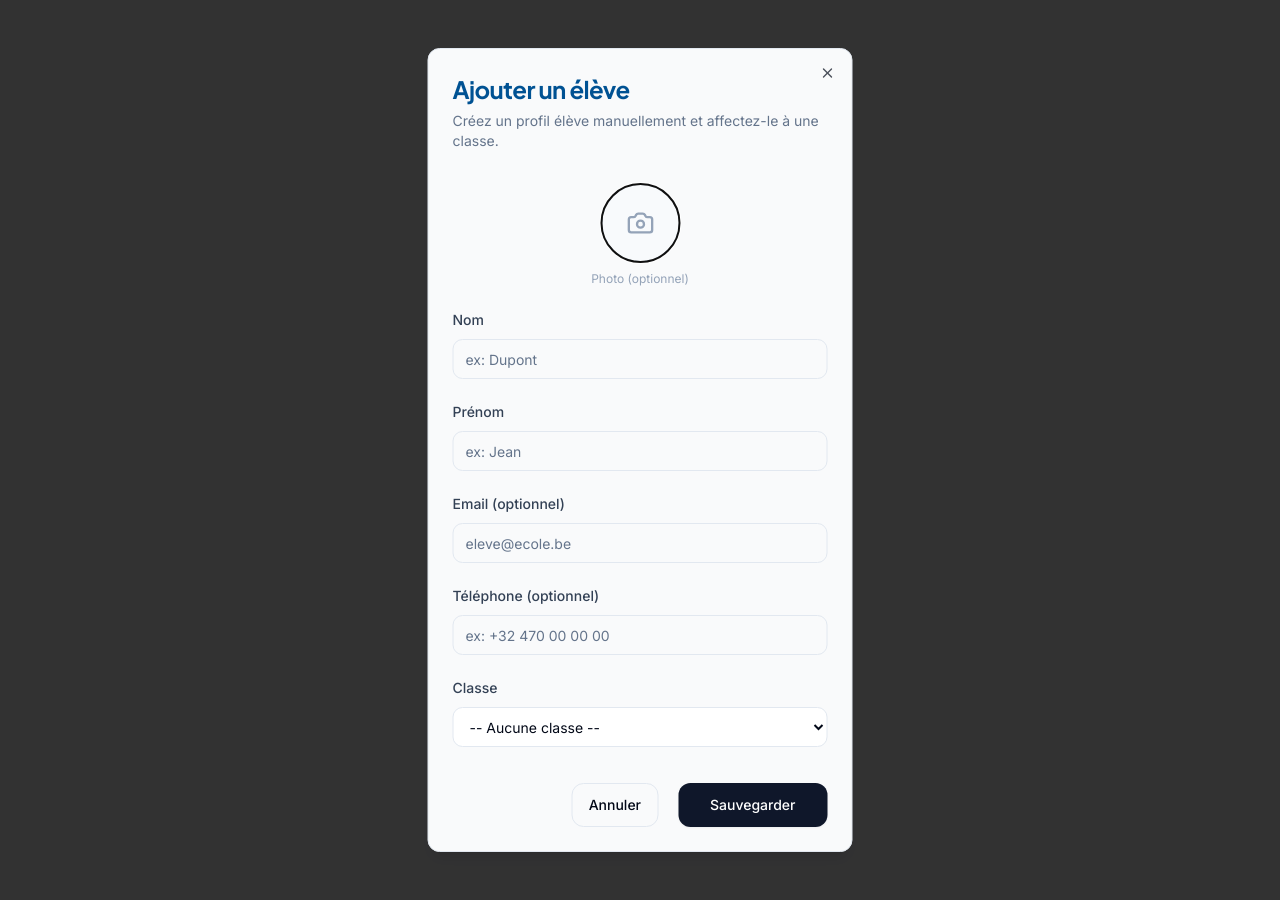
Scenario: CreateStudentDialog › shows server error on API failure
Type "Dupont" into the field with placeholder "ex: Dupont" at [640, 359], box x1=452 y1=339 x2=828 y2=379
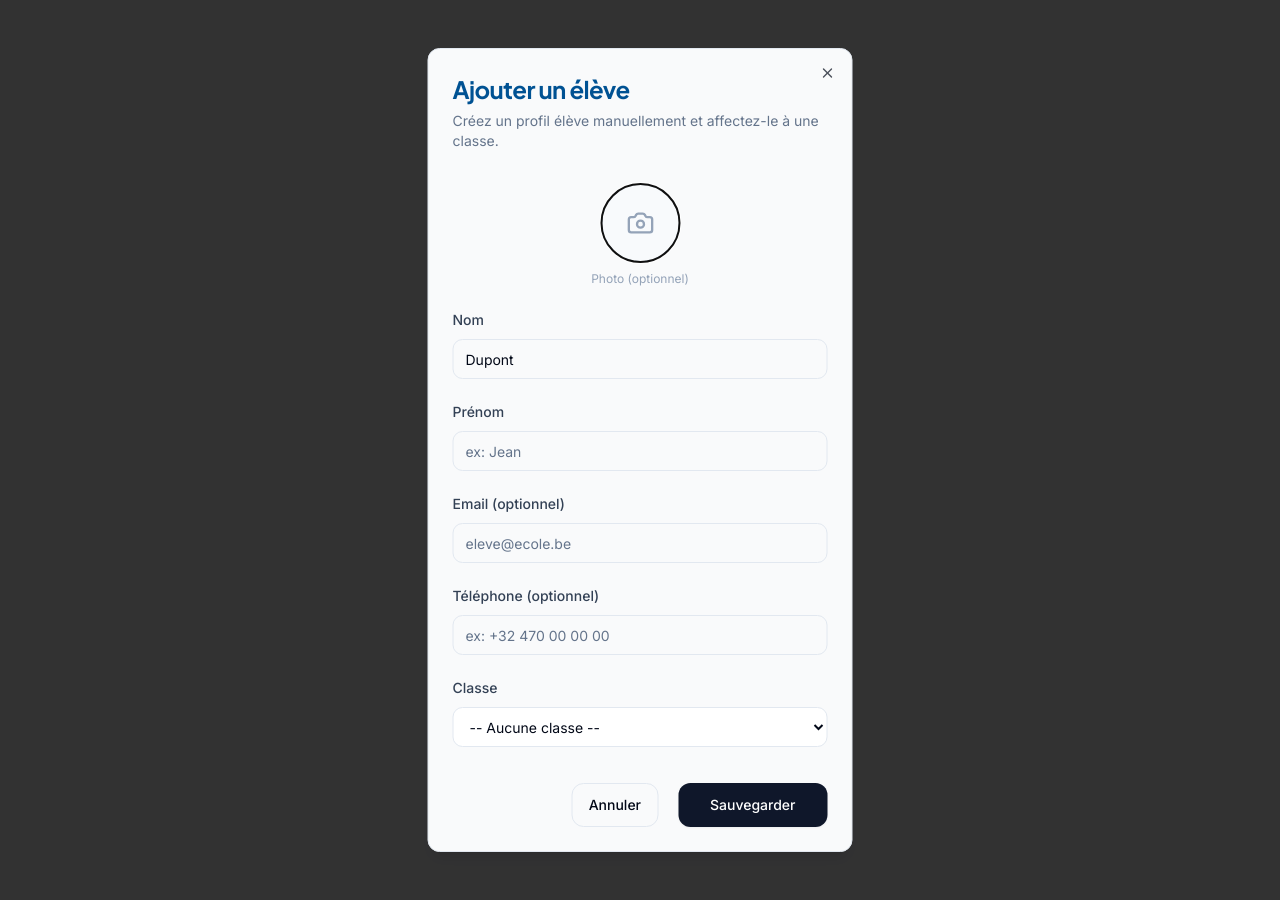
Type "Jean" into the field with placeholder "ex: Jean" at [640, 451], box x1=452 y1=431 x2=828 y2=471
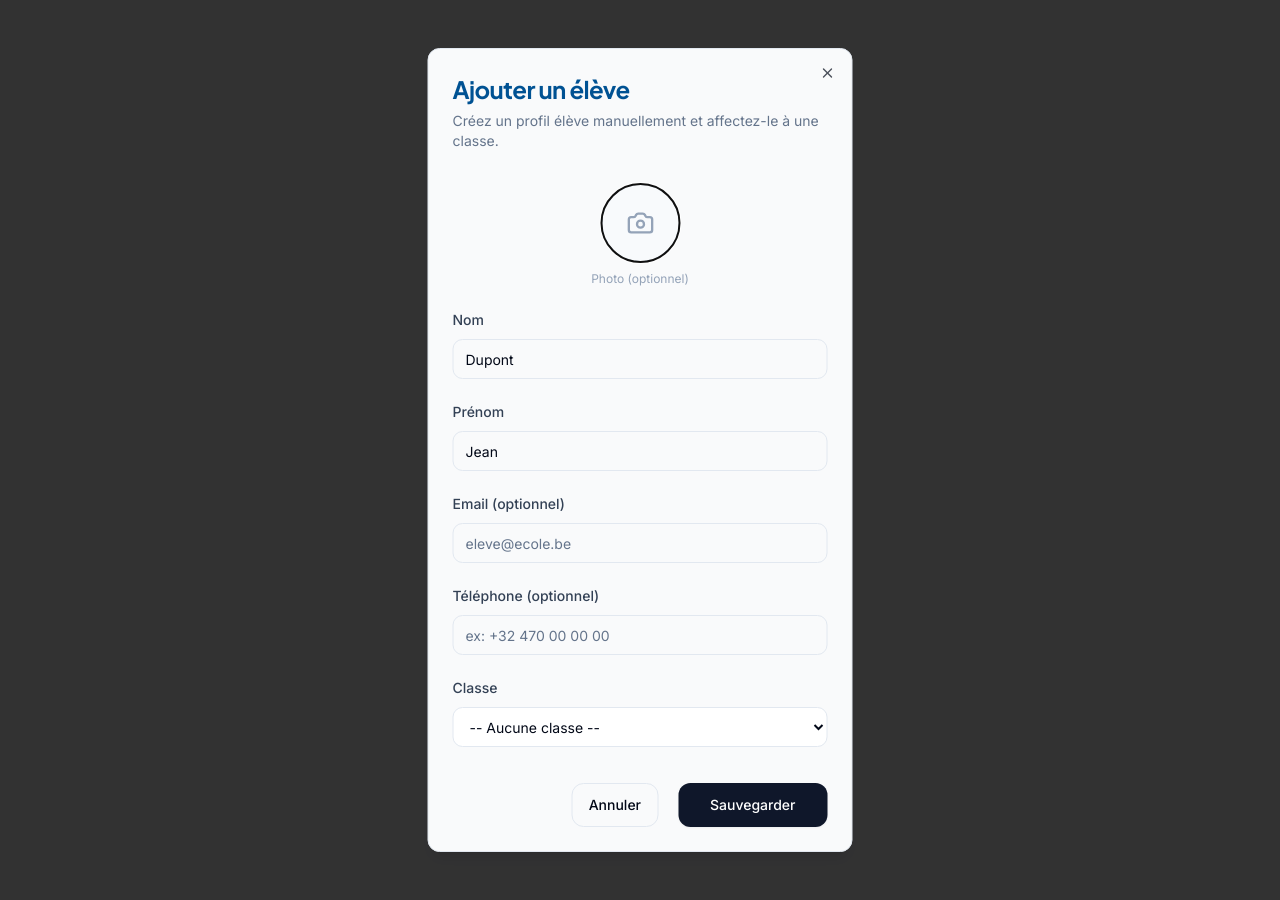
Click the button "Sauvegarder" at [753, 805], box x1=678 y1=783 x2=828 y2=827
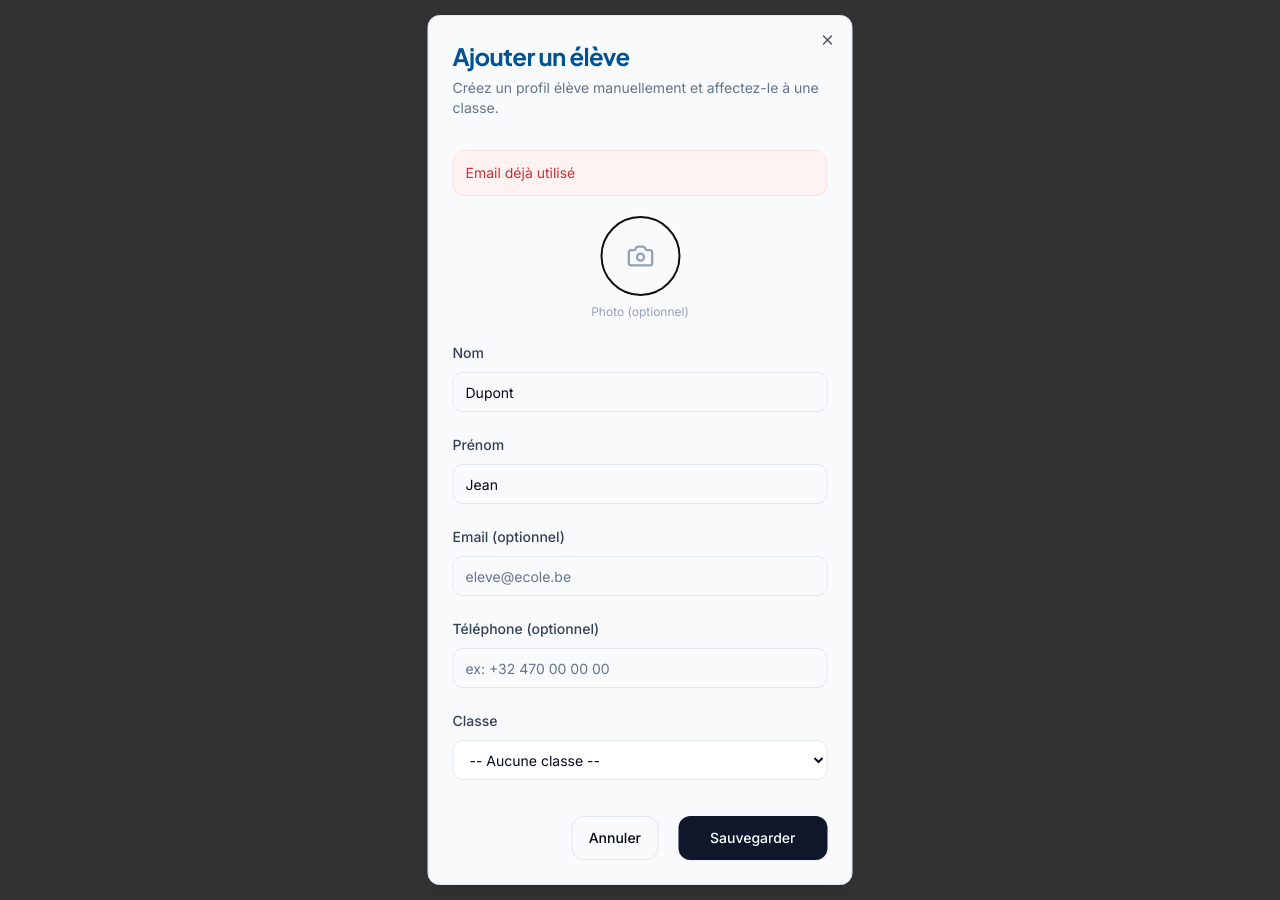
Now the text "Email déjà utilisé" is shown, box x1=452 y1=150 x2=828 y2=196
